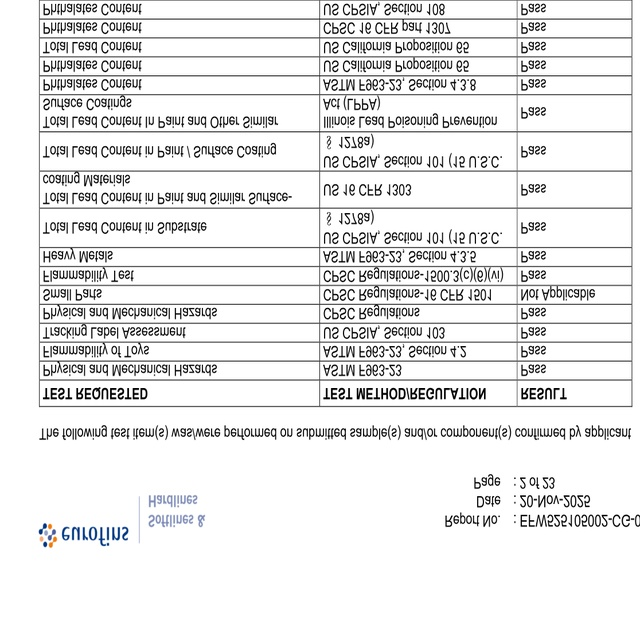eurofins: (34, 520, 133, 550)
